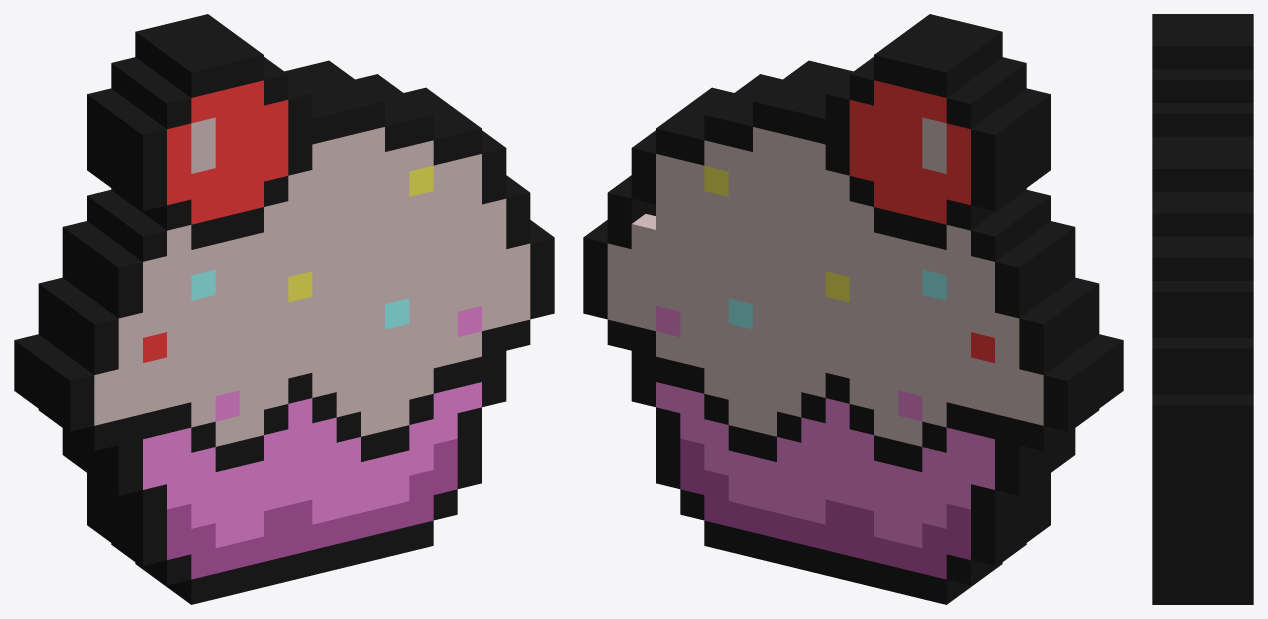
Rendered from cake.fbx.
The picture shows the model from 3 angles, left to right: view 1: azimuth 30°, elevation 25°; view 2: azimuth 150°, elevation 25°; view 3: azimuth 270°, elevation 25°; orthographic projection. The views are drawn at different scales.
Parts seen in each view (by area): view 1: pCube310, pCube363, pCube478, pCube403, pCube477, pCube406, pCube464, pCube271, pCube338, pCube374, pCube308, pCube459 (+44 smaller); view 2: pCube635, pCube641, pCube642, pCube627, pCube640, pCube625, pCube637, pCube604, pCube633, pCube643, pCube626, pCube644 (+45 smaller); view 3: pCube331, pCube446, pCube482, pCube595, pCube624, pCube646, pCube484, pCube492, pCube539, pCube547, pCube499, pCube554 (+96 smaller).
Boxes of the visible parts, box(x1,y1,x2,y2) form: pCube310: box(56, 365, 94, 406); pCube363: box(80, 308, 118, 349); pCube478: box(177, 56, 215, 97); pCube403: box(104, 251, 142, 292); pCube477: box(153, 88, 191, 129); pCube406: box(129, 220, 166, 261); pCube464: box(129, 119, 166, 160); pCube271: box(104, 460, 142, 495); pCube338: box(80, 339, 118, 374); pCube374: box(104, 283, 142, 318); pCube308: box(56, 396, 94, 431); pCube459: box(323, 97, 360, 138); pCube635: box(922, 56, 960, 97); pCube641: box(1019, 308, 1057, 349); pCube642: box(1043, 365, 1081, 406); pCube627: box(995, 251, 1033, 292); pCube640: box(946, 88, 984, 129); pCube625: box(971, 220, 1008, 261); pCube637: box(971, 119, 1008, 160); pCube604: box(607, 182, 645, 223); pCube633: box(995, 460, 1033, 495); pCube643: box(1019, 339, 1057, 374); pCube626: box(995, 283, 1033, 318); pCube644: box(1043, 396, 1081, 431); pCube331: box(1152, 394, 1177, 428); pCube446: box(1152, 202, 1177, 236); pCube482: box(1152, 35, 1177, 69); pCube595: box(1228, 202, 1253, 236); pCube624: box(1228, 394, 1253, 428); pCube646: box(1228, 35, 1253, 69); pCube484: box(1177, 35, 1202, 69); pCube492: box(1177, 202, 1202, 236); pCube539: box(1203, 35, 1228, 69); pCube547: box(1203, 202, 1228, 236); pCube499: box(1177, 394, 1202, 428); pCube554: box(1203, 394, 1228, 428).
Bounding box in the file's own units: 20 × 21 × 4.
